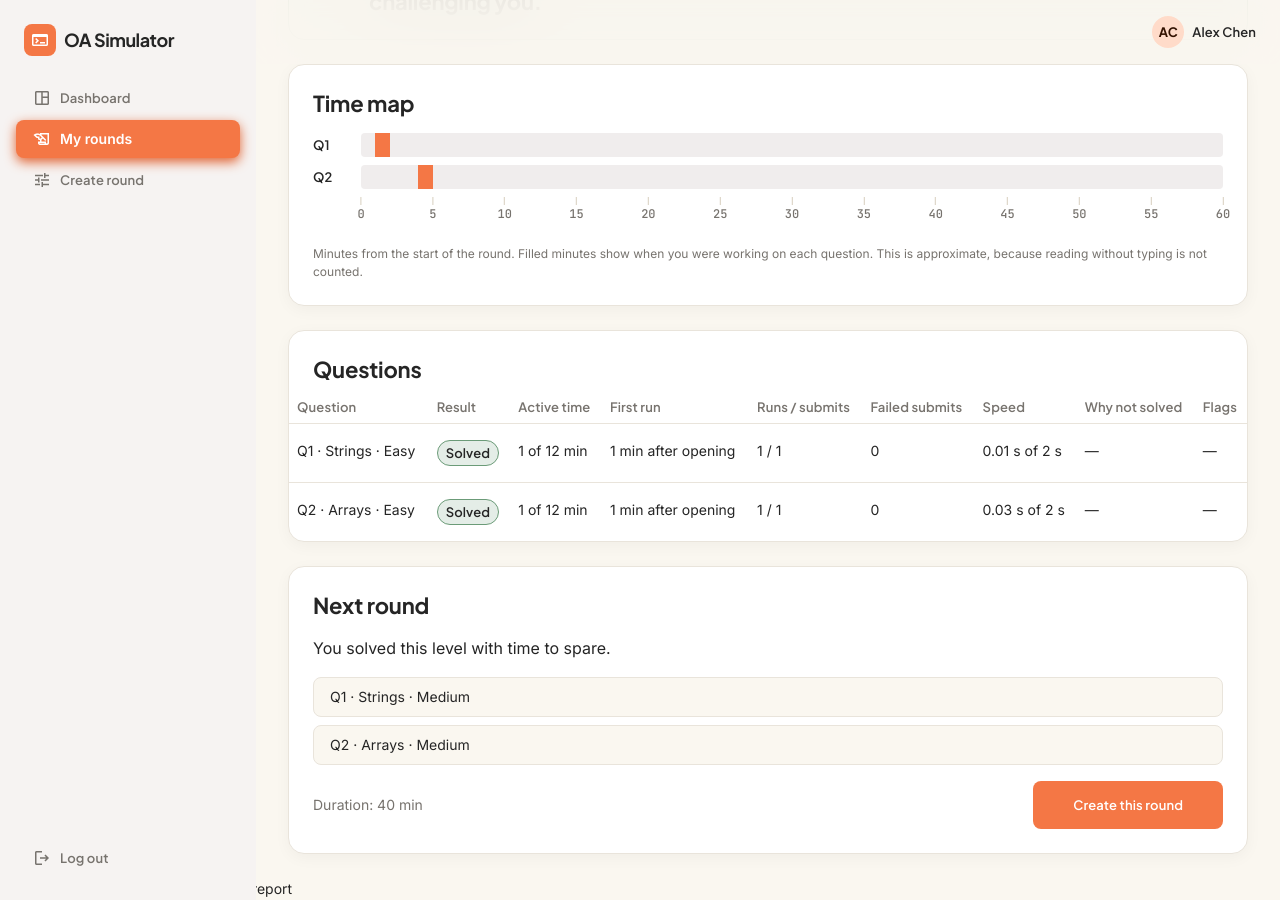
Scenario: next round card › Create this round sends exactly the suggested slots and duration, then opens the new round
(page scrolled)
Click the button "Create this round".
click(1128, 805)  # box [1033,781,1223,829]
(page scrolled)
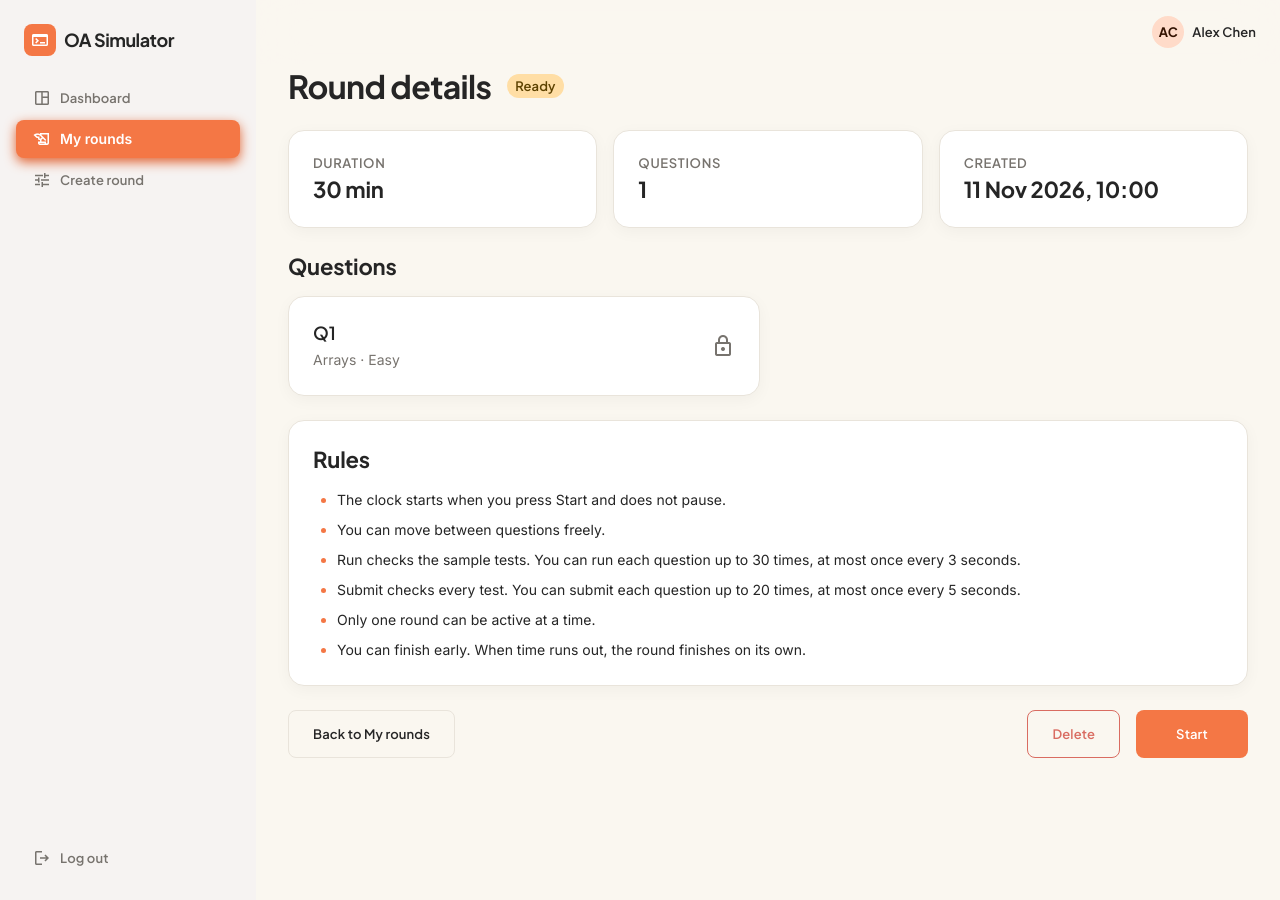
Result: the element with test id "screen-S7" is shown
